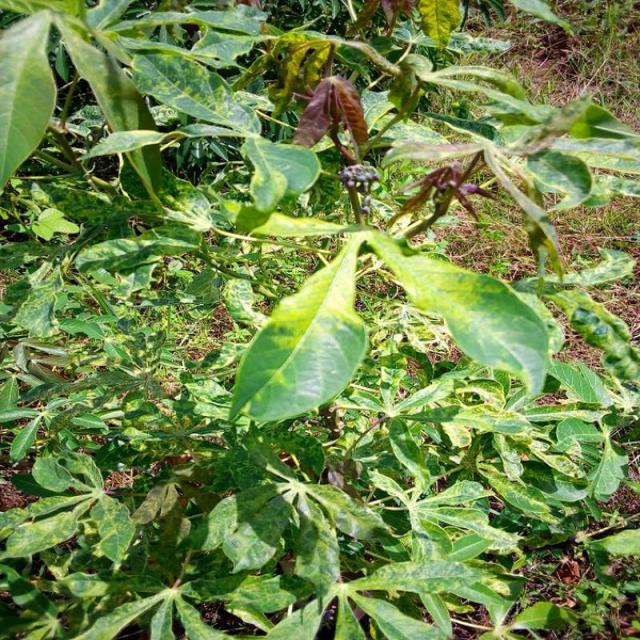cassava leaf: (228, 225, 553, 427), (229, 233, 369, 427)
